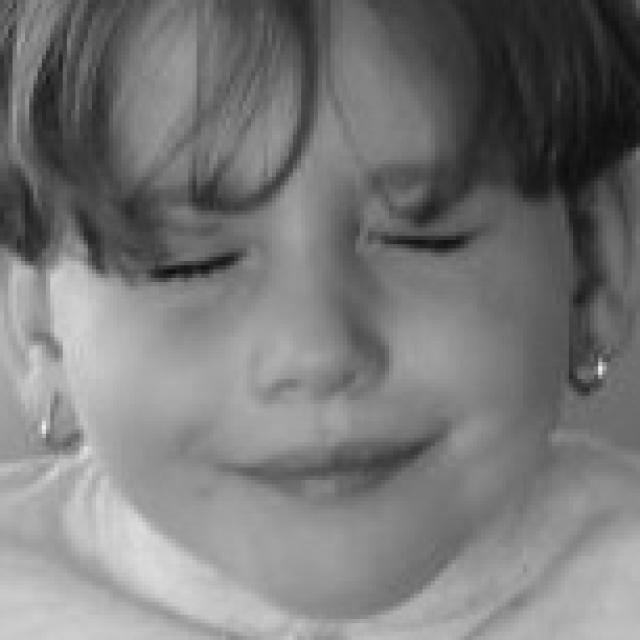real: (39, 60, 584, 630), (89, 164, 480, 291)
